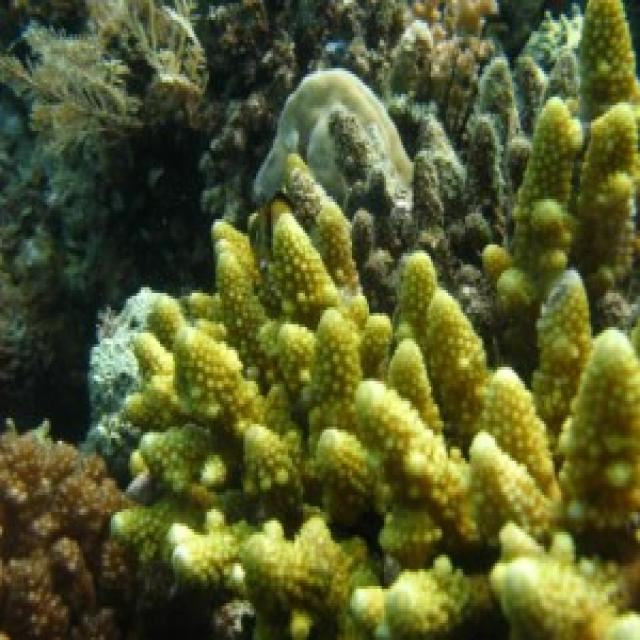Healthy: (112, 1, 639, 638), (1, 428, 123, 638)
